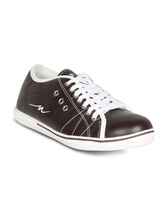shoes: (8, 59, 158, 152)
